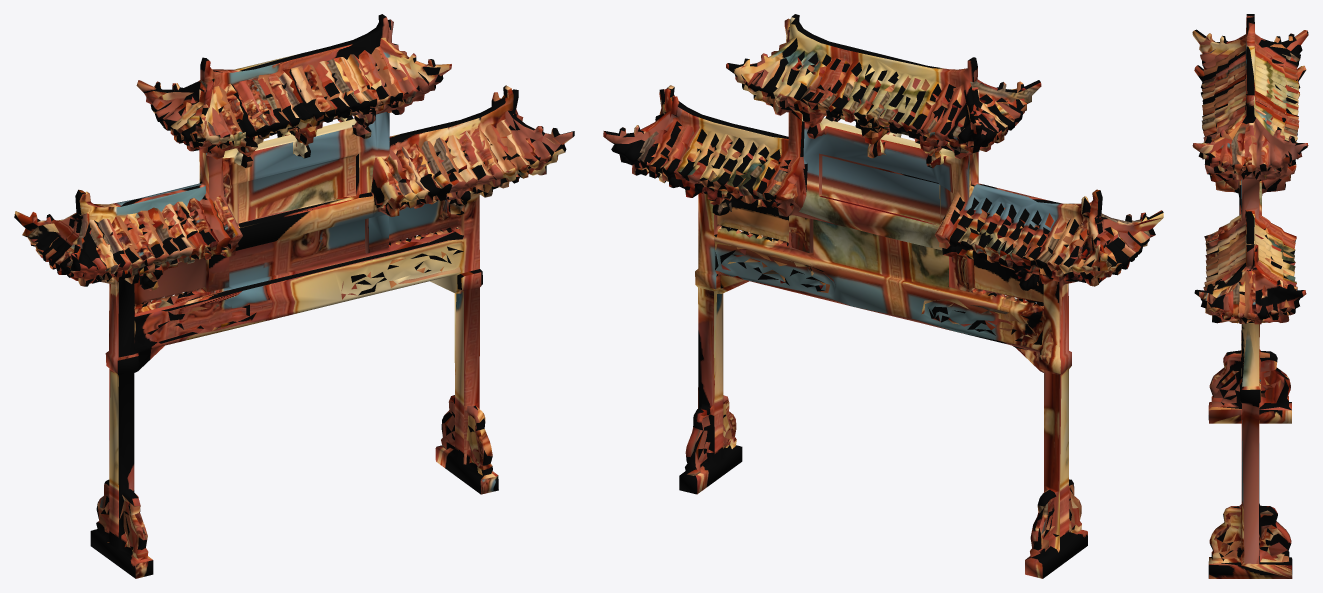
Rendered from MDL_Environment_Other_Archway_Archway.fbx.
3 renders of one model, left to right at view 1: azimuth 30°, elevation 25°; view 2: azimuth 150°, elevation 25°; view 3: azimuth 270°, elevation 25°, orthographic. The views are drawn at different scales.
Visible parts, largest first — view 1: Mesh1.0; view 2: Mesh1.0; view 3: Mesh1.0.
Boxes of the visible parts, x1=… form: Mesh1.0: x1=14, y1=14, x2=574, y2=578; Mesh1.0: x1=603, y1=14, x2=1163, y2=578; Mesh1.0: x1=1192, y1=14, x2=1308, y2=578.
Bounding box in the file's own units: 192 × 174 × 41.45.
